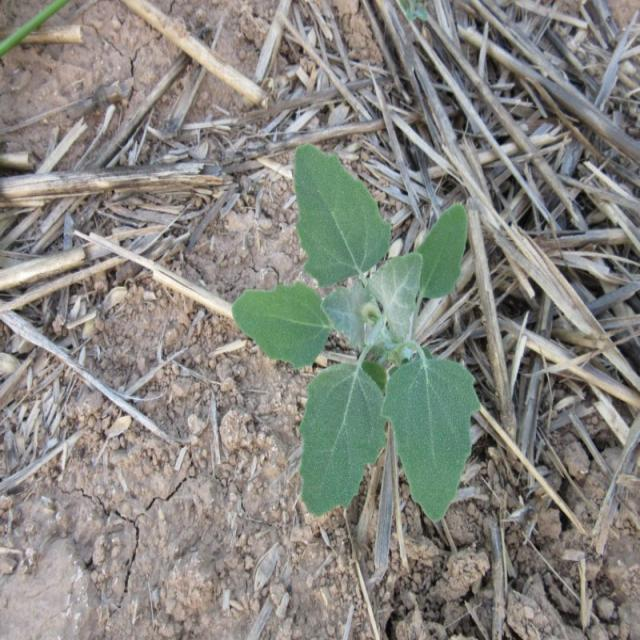ca: (294, 140, 476, 517)
